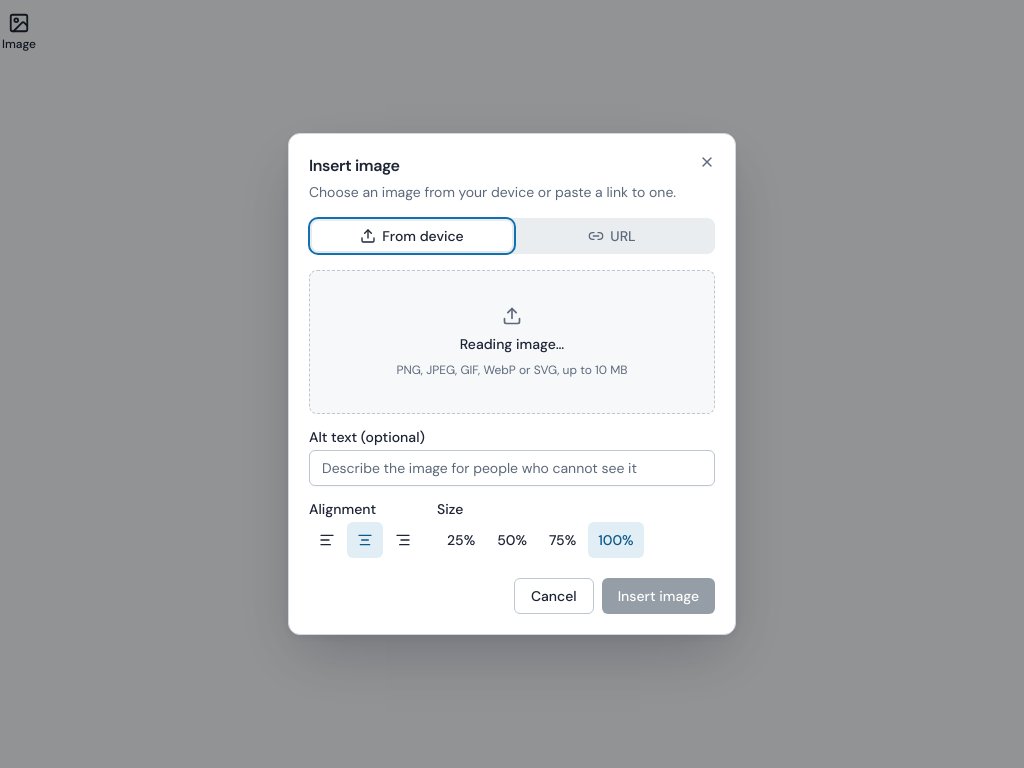
Test case: ImageToolbar uploads › cancels an upload when the dialog is dismissed
Earlier steps of the test are not shown.
Step 1. Press Escape
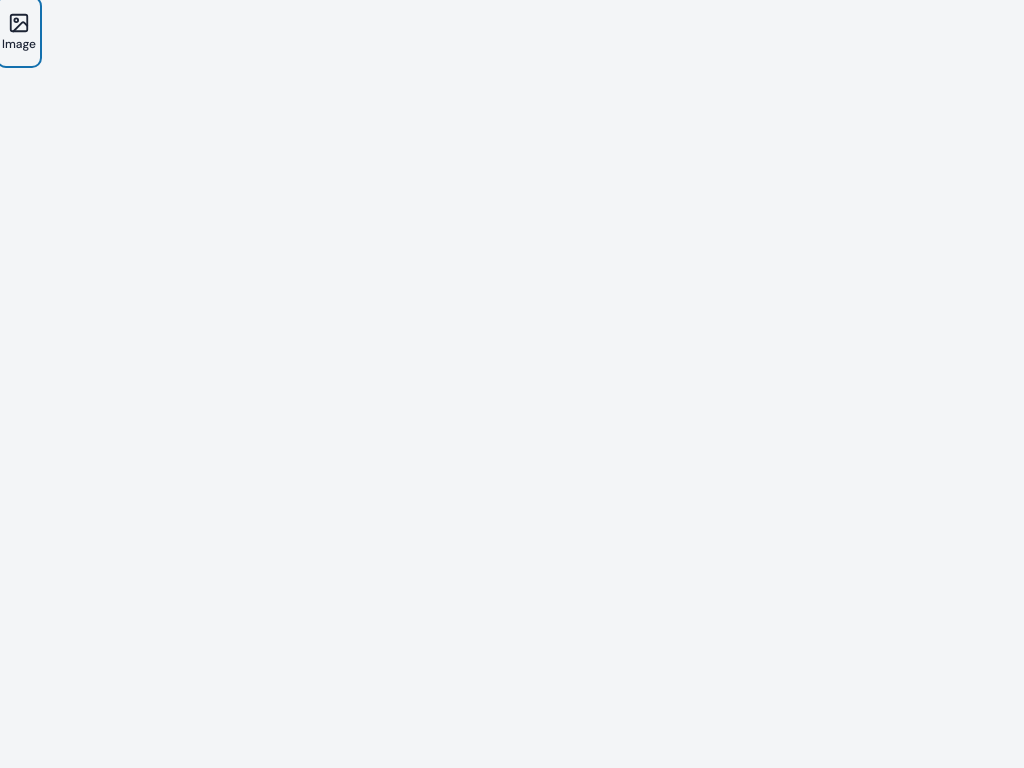
Check: the dialog is gone
Step 2. Click the button with aria-label "Insert image" → [19, 32], box [0,0,38,64]
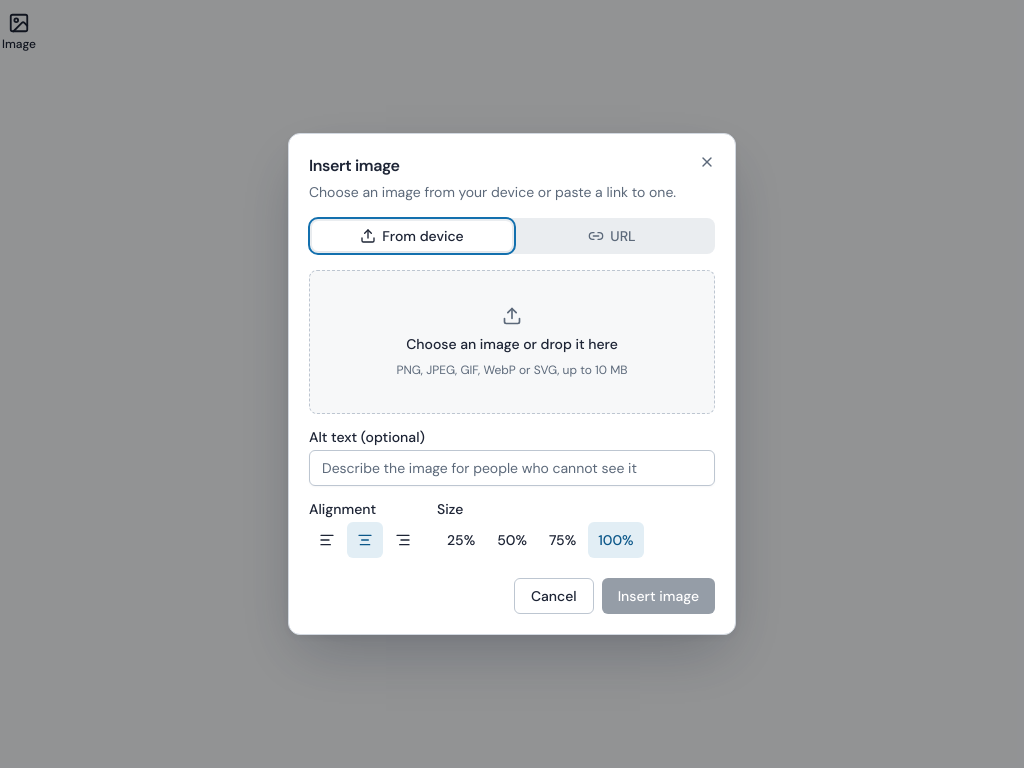
Check: the dialog is shown, box [288,133,736,635]
Step 3. Press Escape
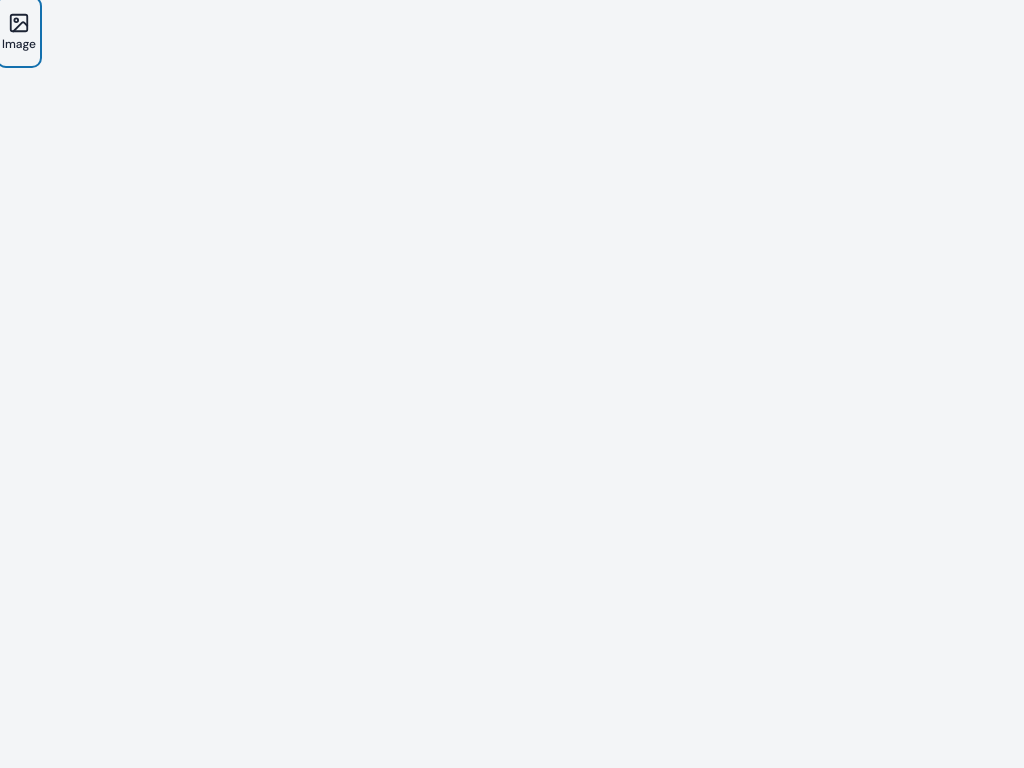
Check: the dialog is gone
